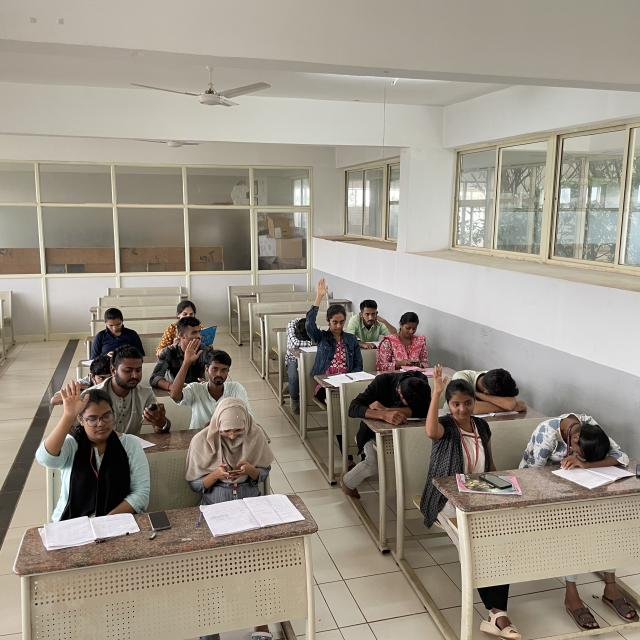Hand Rising: (43, 378, 143, 510), (421, 358, 491, 468), (174, 336, 250, 421), (304, 278, 361, 370)
Reading: (352, 297, 391, 348)
Sleeping: (520, 408, 625, 467), (352, 372, 432, 424), (461, 366, 528, 412), (283, 312, 321, 348)
Using Phone: (185, 392, 278, 491), (378, 309, 428, 368), (90, 306, 141, 357)
